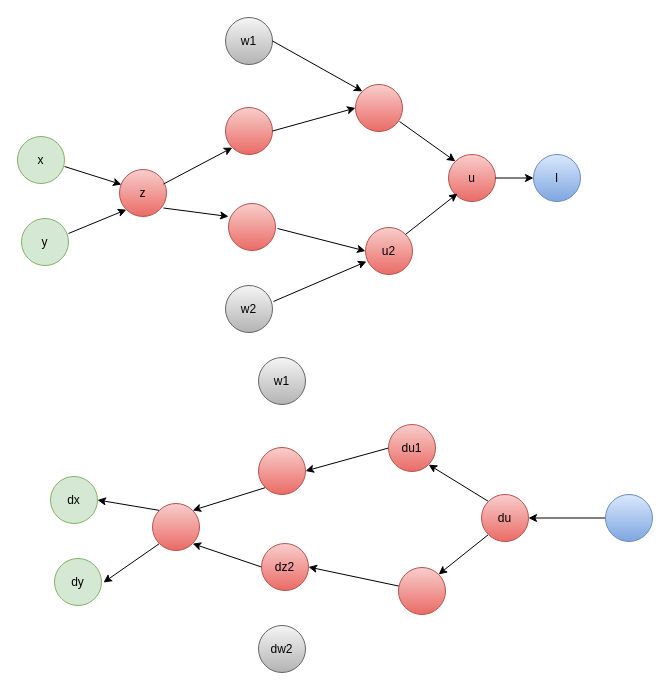
The diagram is 670 pixels wide and 690 high, and some of its shapes have lost their labels. Here are the shapes that lost their labels. From the top down, the centre of each, then its label:
(x=378, y=108): u1
(x=248, y=130): z1
(x=252, y=226): z2
(x=282, y=470): dz1
(x=176, y=526): dz
(x=628, y=518): dl
(x=422, y=590): du2
